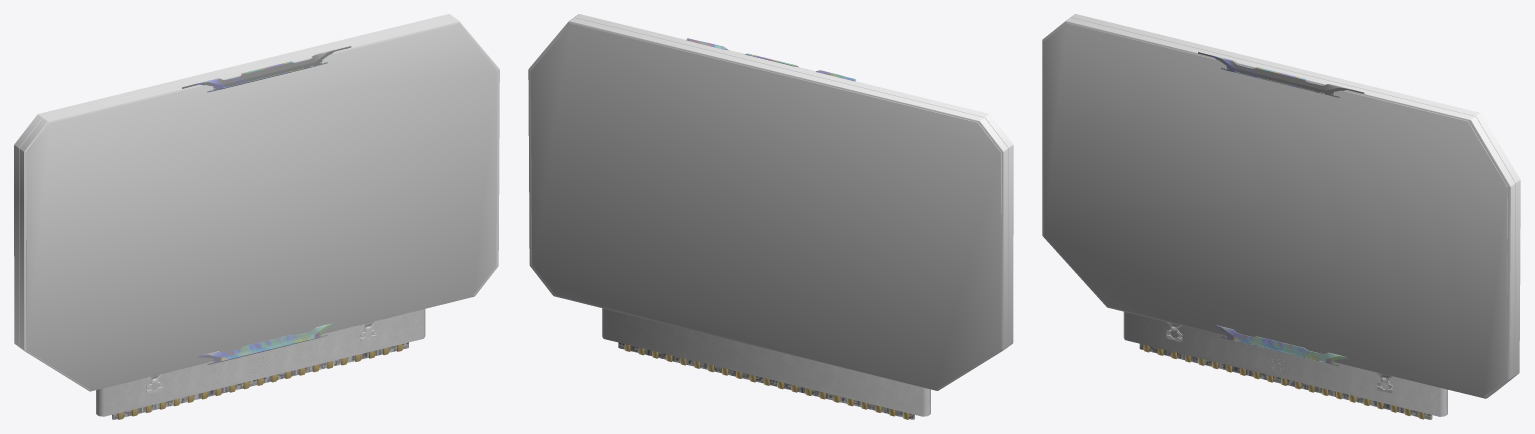
File: cartridge teczowy.gltf
3 views of the same model, side by side, from view 1: azimuth 30°, elevation 25°; view 2: azimuth 150°, elevation 25°; view 3: azimuth 330°, elevation 25° (orthographic).
Visible parts, largest first — view 1: cartridge low; view 2: cartridge low; view 3: cartridge low.
Part boxes in pixels (x1,y1,x2,y2): cartridge low: (14,14,499,419); cartridge low: (528,14,1013,419); cartridge low: (1042,14,1520,419).
Bounding box in the file's own units: 1.97 × 1.27 × 0.0866.
Materials: 5 (4 with a texture image).
